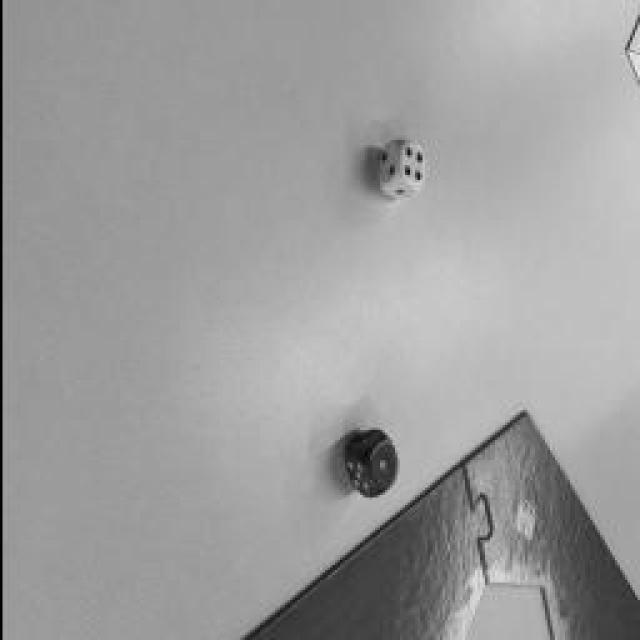dice_1: (365, 440, 395, 492)
dice_4: (398, 142, 422, 188)
